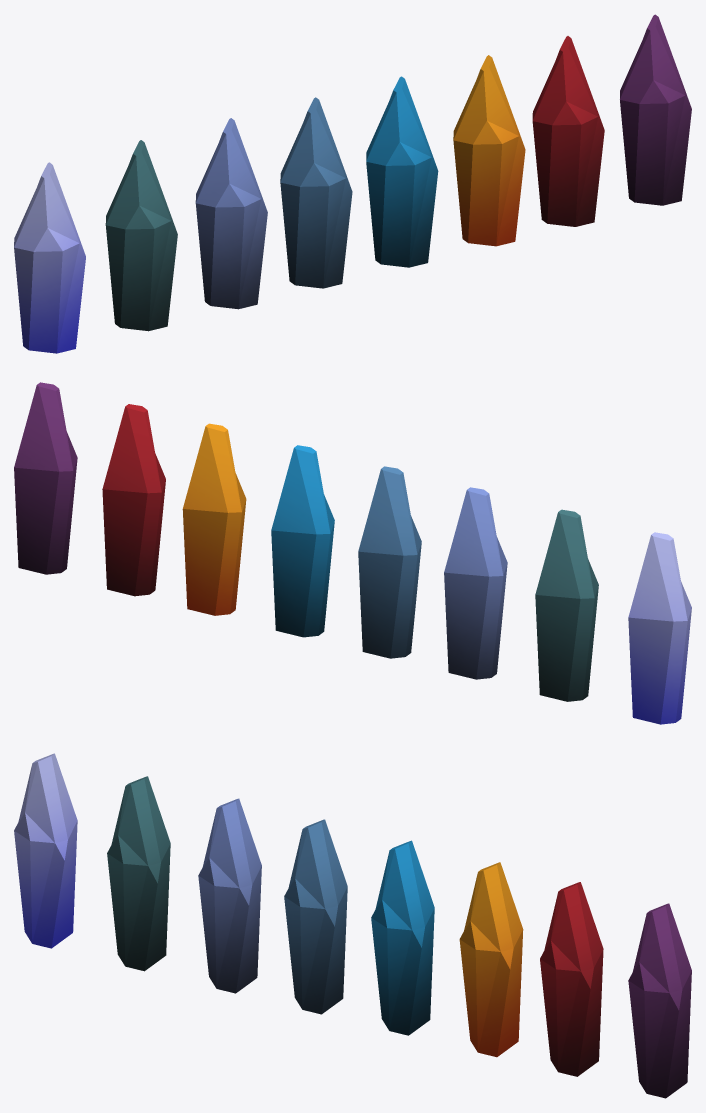
The model's file is Crystal_1.fbx.
3 renders of one model, top to bottom at view 1: azimuth 30°, elevation 25°; view 2: azimuth 150°, elevation 25°; view 3: azimuth 330°, elevation 25°, orthographic.
Visible parts, largest first — view 1: Crystal_1.002, Crystal_1.001, Crystal_1, Crystal_1.003, Crystal_1.004, Crystal_1.007, Crystal_1.005, Crystal_1.006; view 2: Crystal_1.004, Crystal_1.006, Crystal_1.007, Crystal_1, Crystal_1.005, Crystal_1.003, Crystal_1.001, Crystal_1.002; view 3: Crystal_1.007, Crystal_1.002, Crystal_1, Crystal_1.003, Crystal_1.004, Crystal_1.006, Crystal_1.005, Crystal_1.001.
Part boxes in pixels (bbox=[...]): Crystal_1.002: bbox=[532, 36, 604, 226]; Crystal_1.001: bbox=[453, 55, 525, 246]; Crystal_1: bbox=[366, 76, 438, 267]; Crystal_1.003: bbox=[620, 14, 691, 205]; Crystal_1.004: bbox=[280, 97, 352, 288]; Crystal_1.007: bbox=[14, 162, 85, 353]; Crystal_1.005: bbox=[195, 118, 267, 309]; Crystal_1.006: bbox=[105, 140, 177, 331]; Crystal_1.004: bbox=[358, 466, 421, 658]; Crystal_1.006: bbox=[535, 509, 598, 701]; Crystal_1.007: bbox=[628, 532, 691, 724]; Crystal_1: bbox=[271, 445, 334, 637]; Crystal_1.005: bbox=[444, 487, 507, 679]; Crystal_1.003: bbox=[14, 382, 77, 574]; Crystal_1.001: bbox=[182, 423, 246, 615]; Crystal_1.002: bbox=[102, 404, 165, 596]; Crystal_1.007: bbox=[14, 753, 77, 948]; Crystal_1.002: bbox=[540, 882, 603, 1076]; Crystal_1: bbox=[371, 840, 434, 1035]; Crystal_1.003: bbox=[628, 903, 691, 1098]; Crystal_1.004: bbox=[284, 819, 347, 1014]; Crystal_1.006: bbox=[107, 776, 170, 971]; Crystal_1.005: bbox=[198, 798, 261, 993]; Crystal_1.001: bbox=[459, 862, 523, 1057].
Size of the model in its own units: 346 by 88.9 by 29.3.
1 material, 1 textured.
